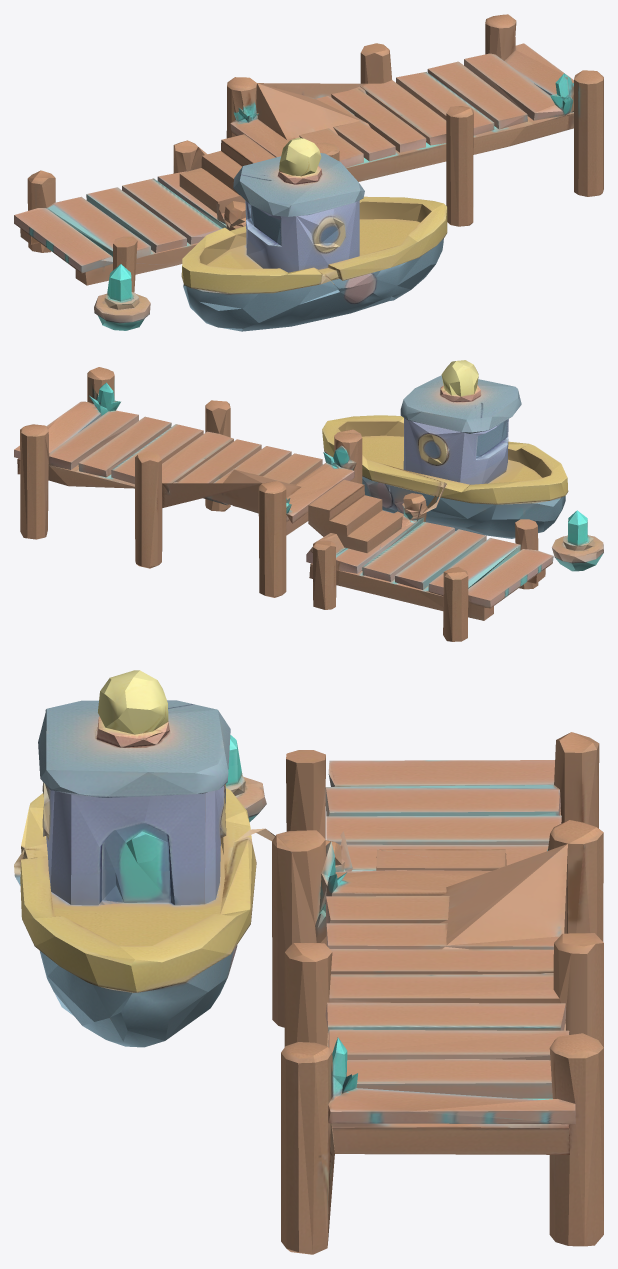
The model's file is meshy.glb.
3 renders of one model, top to bottom at view 1: azimuth 30°, elevation 25°; view 2: azimuth 150°, elevation 25°; view 3: azimuth 270°, elevation 25°, orthographic. The views are drawn at different scales.
Bounding box in the file's own units: 1.9 × 0.5984 × 1.08.
1 material, 1 textured.
